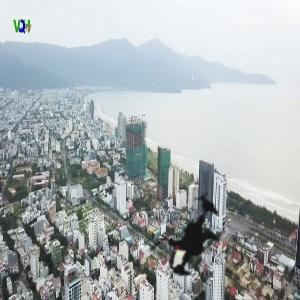drone: (120, 166, 255, 300)
